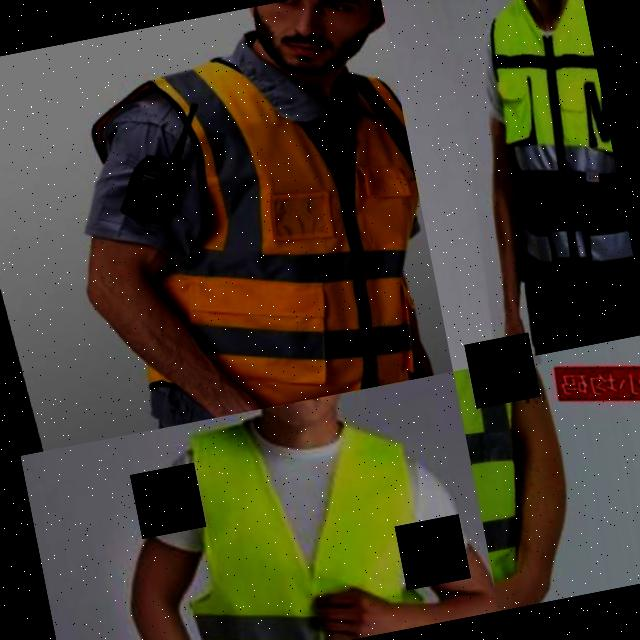vest: (106, 29, 453, 426), (128, 380, 455, 640), (441, 0, 638, 307), (454, 356, 582, 611)
